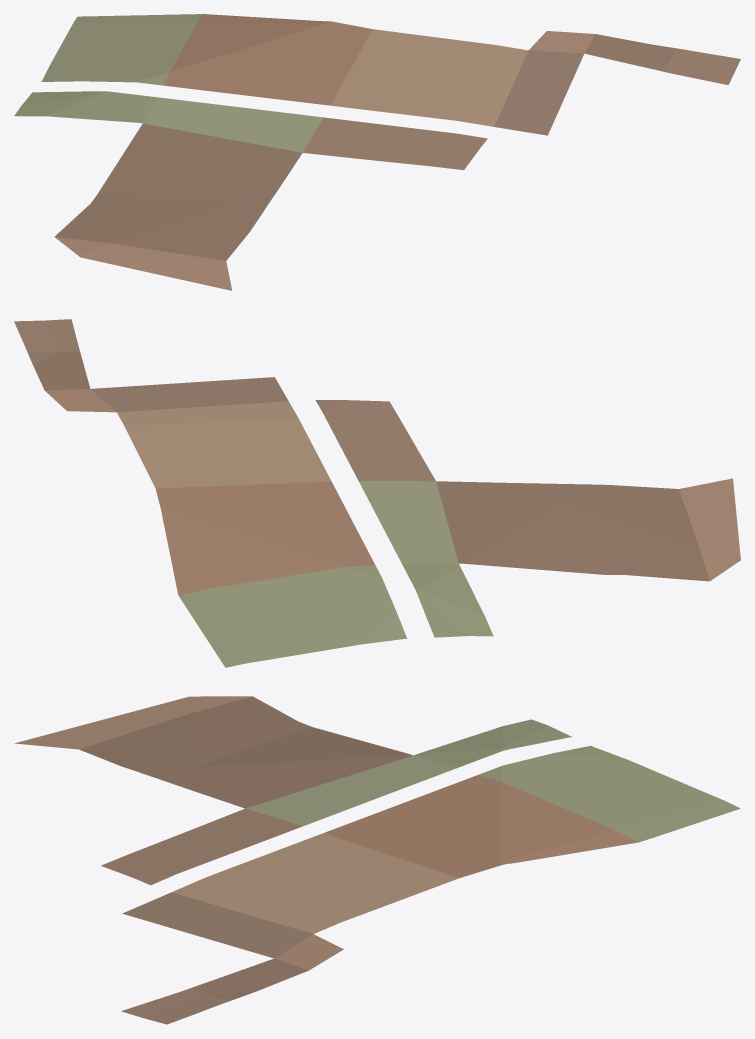
File: farm_-11_-20_soil.glb
3 views of the same model, one above another, from view 1: azimuth 30°, elevation 25°; view 2: azimuth 150°, elevation 25°; view 3: azimuth 270°, elevation 25° (orthographic). The views are drawn at different scales.
Parts seen in each view (by area): view 1: geometry_0; view 2: geometry_0; view 3: geometry_0.
Part boxes in pixels (x1,y1,x2,y2): geometry_0: (14,14,740,290); geometry_0: (14,319,740,667); geometry_0: (14,696,740,1024).
Bounding box in the file's own units: 235 × 17.06 × 188.
